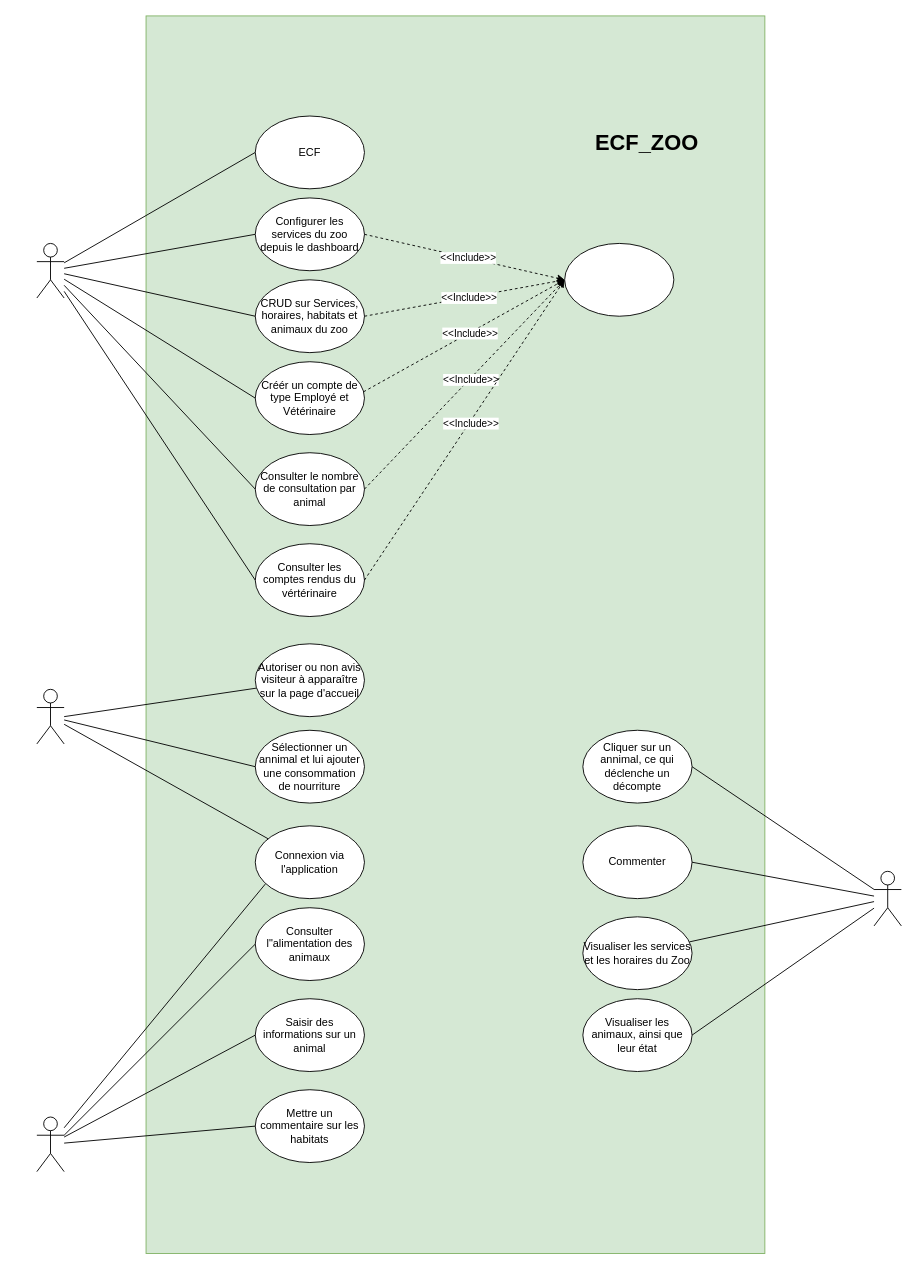
This 922x1269 diagram has some shape labels left out. Each missing label, with the centre of its shape:
"Administrateur" goes at pixel 50 270.
"Connexion sur dashboard Administrateur" goes at pixel 619 279.
"Employé" goes at pixel 50 716.
"Visiteur" goes at pixel 887 898.
"Vétérinaire" goes at pixel 50 1144.
